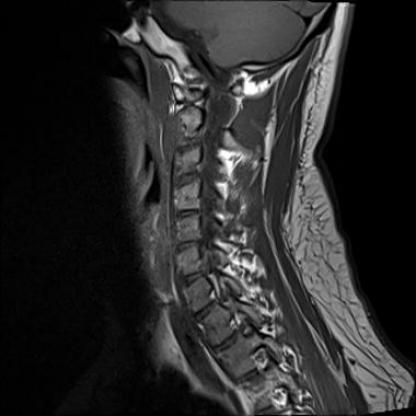Disc Bulgerotation: (171, 237, 200, 253)
